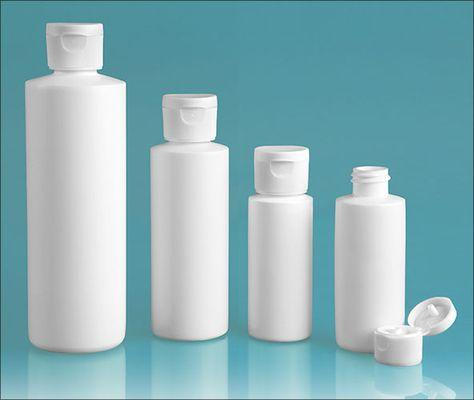HDPE: (24, 72, 125, 354), (152, 143, 230, 339), (335, 166, 406, 352), (249, 195, 313, 343), (373, 296, 458, 367), (253, 146, 310, 195), (161, 93, 217, 142), (46, 23, 102, 71)
